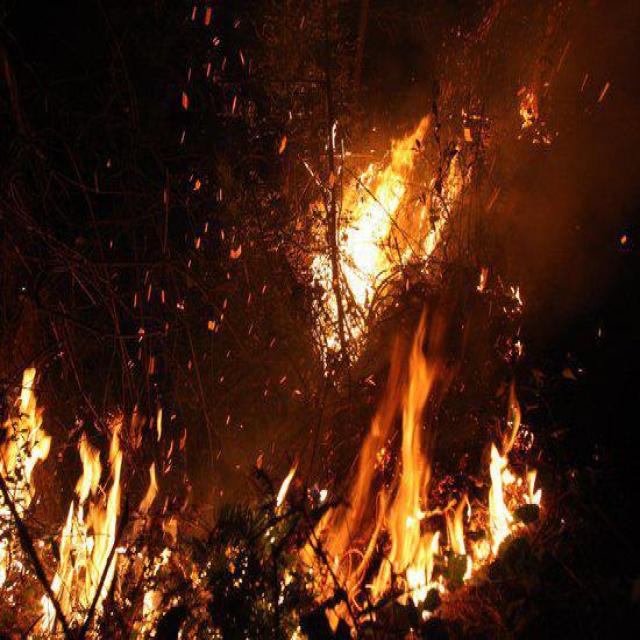fire: (310, 321, 548, 599), (2, 360, 180, 636), (303, 102, 478, 288)
